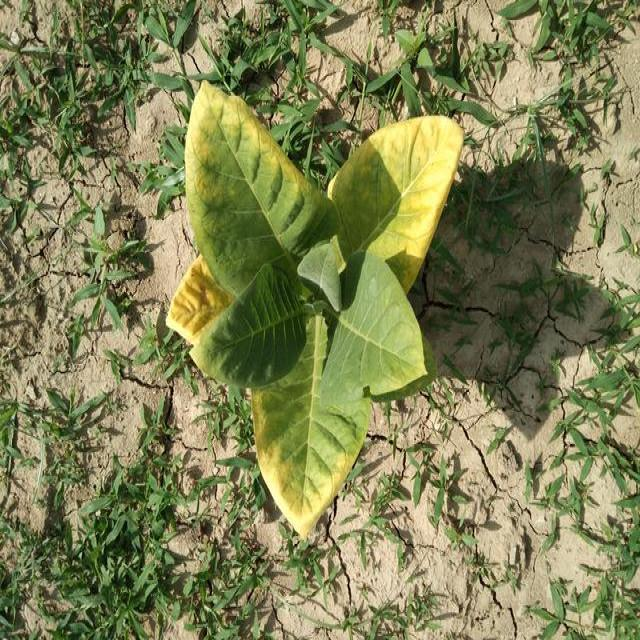crop: (164, 82, 458, 536)
